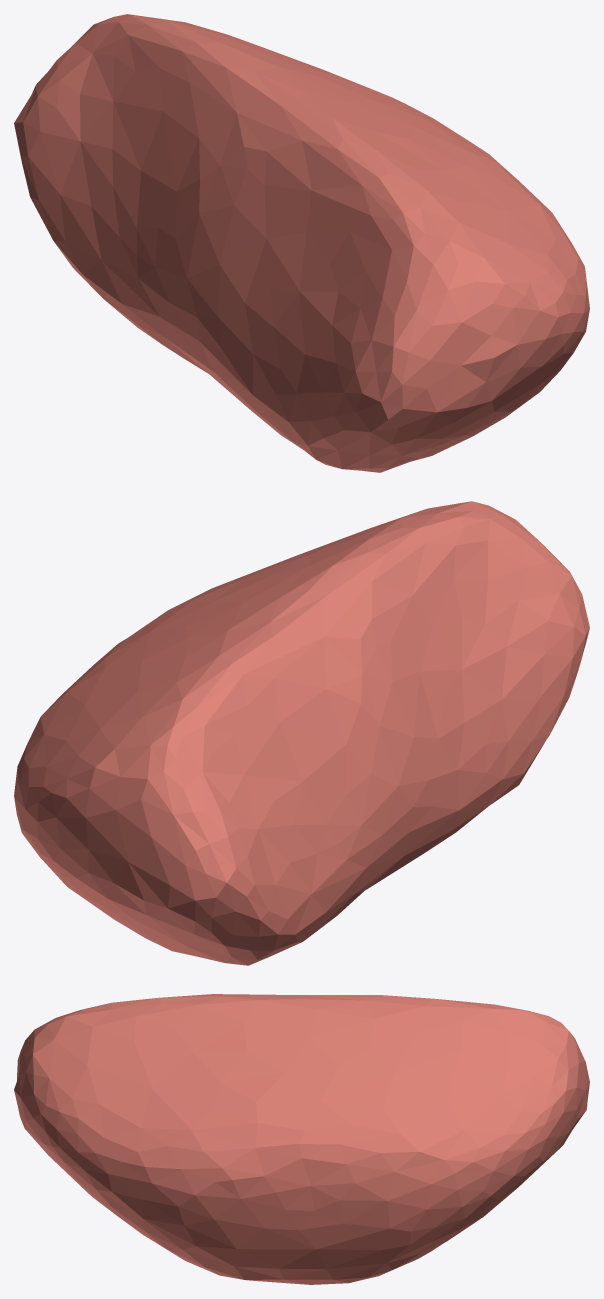
3 views of the same model, one above another, from view 1: azimuth 30°, elevation 25°; view 2: azimuth 150°, elevation 25°; view 3: azimuth 270°, elevation 25° (orthographic). The views are drawn at different scales.
Parts seen in each view (by area): view 1: 491.obj; view 2: 491.obj; view 3: 491.obj.
Part boxes in pixels (x1,y1,x2,y2): 491.obj: (14, 14, 589, 472); 491.obj: (14, 501, 589, 965); 491.obj: (14, 994, 589, 1284).
Size of the model in its own units: 769 by 756 by 1614.
